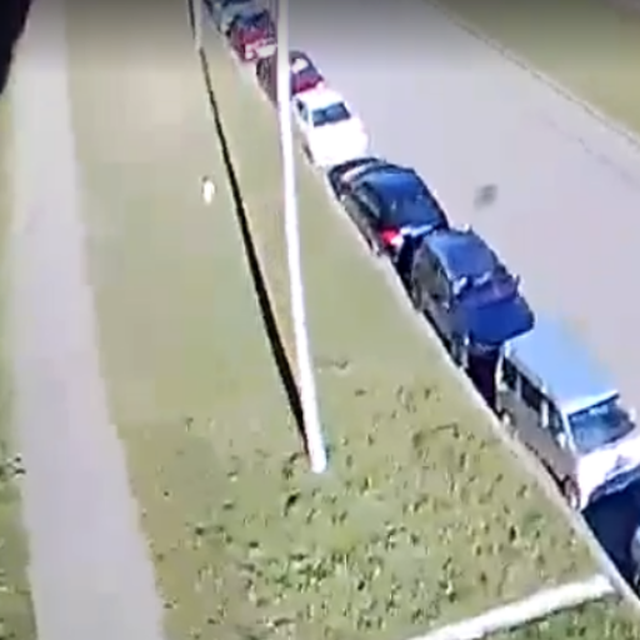car: (490, 326, 640, 507), (407, 230, 534, 367), (331, 156, 450, 262), (293, 88, 371, 164), (254, 50, 327, 104), (224, 7, 289, 62)
